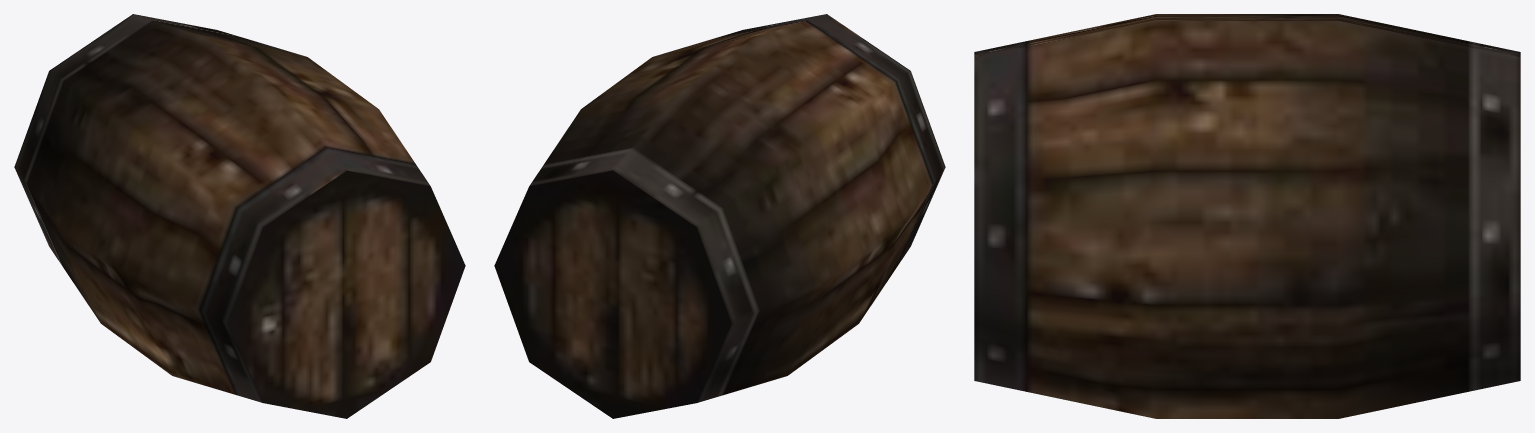
The picture shows the model from 3 angles, left to right: view 1: azimuth 30°, elevation 25°; view 2: azimuth 150°, elevation 25°; view 3: azimuth 270°, elevation 25°; orthographic projection. The views are drawn at different scales.
Parts seen in each view (by area): view 1: model_Object30; view 2: model_Object30; view 3: model_Object30.
Part boxes in pixels (bbox=[...]): model_Object30: bbox=[14, 14, 465, 418]; model_Object30: bbox=[494, 14, 945, 418]; model_Object30: bbox=[974, 14, 1520, 418].
Size of the model in its own units: 0.8127 by 0.8127 by 1.03.
Materials: 1 (1 with a texture image).
